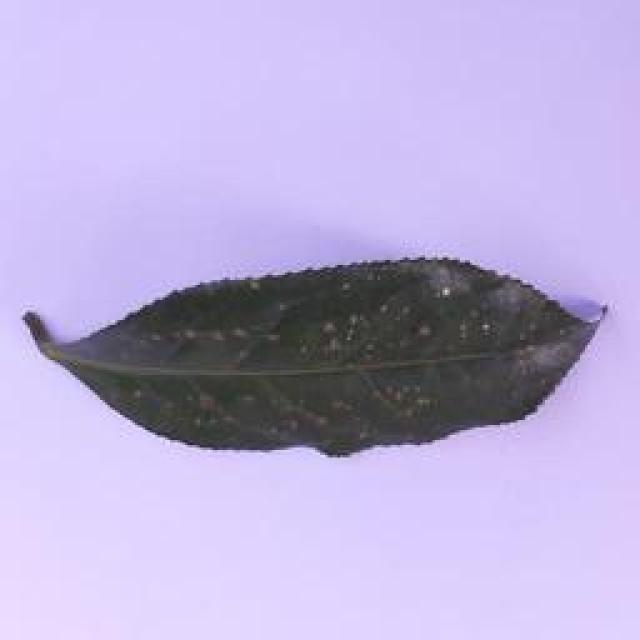Algal Leaf Spot: (18, 255, 608, 468)
